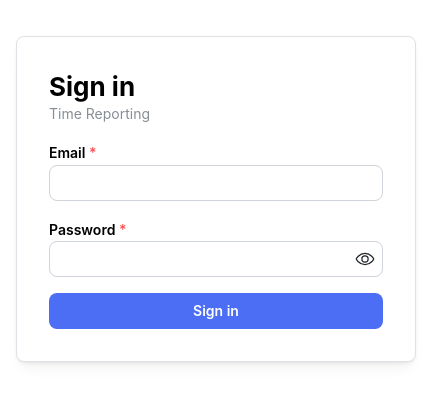
Test: signing in › requires email and password
Expected: the heading "Sign in" is shown, [49,70,135,102]
Click the button "Sign in" at [216, 312], box [49,294,383,330]
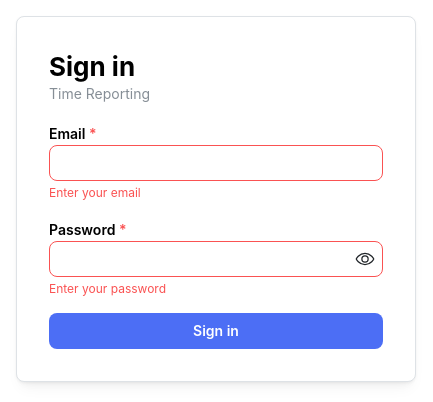
Expected: the text "Enter your email" is shown, [49,185,141,200]
Expected: the text "Enter your password" is shown, [49,282,166,296]
